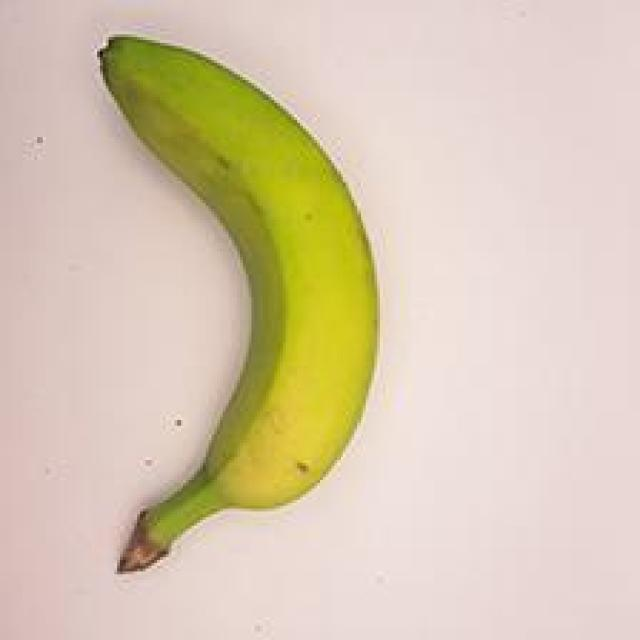Unripe: (13, 30, 390, 568)
